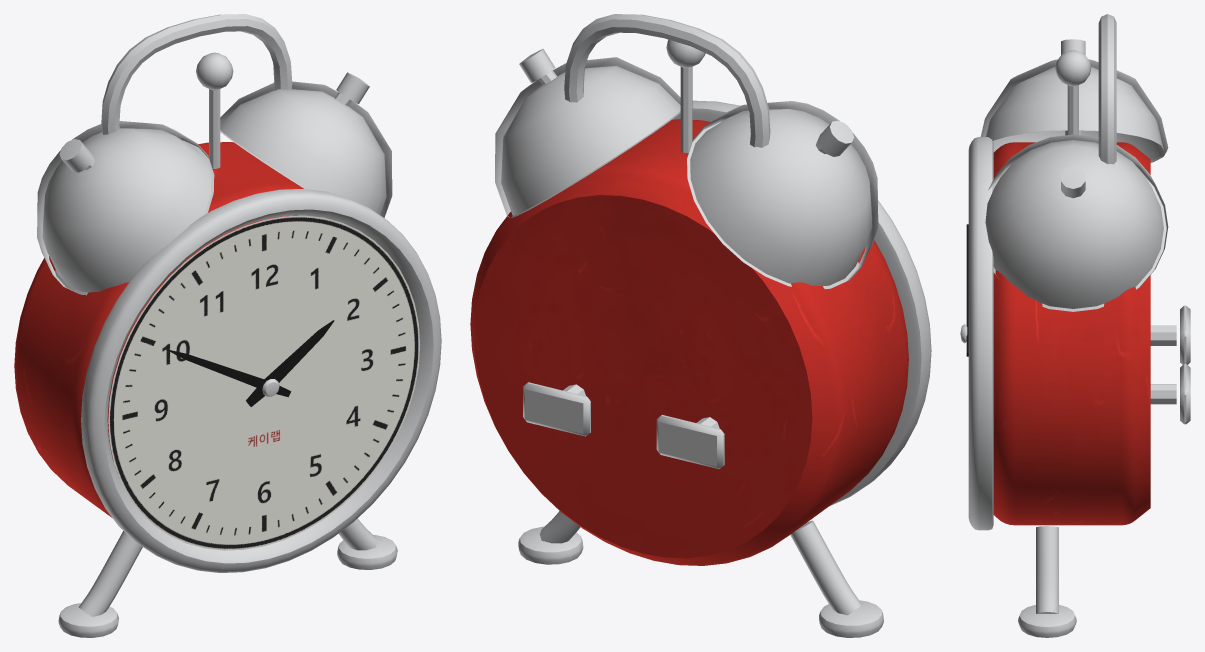
Rendered from clock.glb.
The picture shows the model from 3 angles, left to right: view 1: azimuth 30°, elevation 25°; view 2: azimuth 150°, elevation 25°; view 3: azimuth 270°, elevation 25°; orthographic projection. The views are drawn at different scales.
Visible parts, largest first — view 1: clock_face, clock_chrome, clock_body, hammer, hand_h, hand_m; view 2: clock_body, clock_chrome, hammer; view 3: clock_chrome, clock_body, hammer, hand_m.
Boxes of the visible parts, x1=… form: clock_face: x1=108, y1=215, x2=420, y2=550; clock_chrome: x1=37, y1=14, x2=441, y2=637; clock_body: x1=14, y1=142, x2=303, y2=517; hammer: x1=196, y1=52, x2=233, y2=168; hand_h: x1=246, y1=320, x2=334, y2=406; hand_m: x1=165, y1=349, x2=291, y2=397; clock_body: x1=470, y1=119, x2=908, y2=565; clock_chrome: x1=495, y1=14, x2=931, y2=637; hammer: x1=666, y1=39, x2=705, y2=152; clock_chrome: x1=968, y1=14, x2=1190, y2=637; clock_body: x1=993, y1=142, x2=1150, y2=525; hammer: x1=1055, y1=50, x2=1091, y2=134; hand_m: x1=966, y1=224, x2=968, y2=356.
Size of the model in its own units: 0.0914 by 0.1361 by 0.0535.
4 materials, 2 textured.
